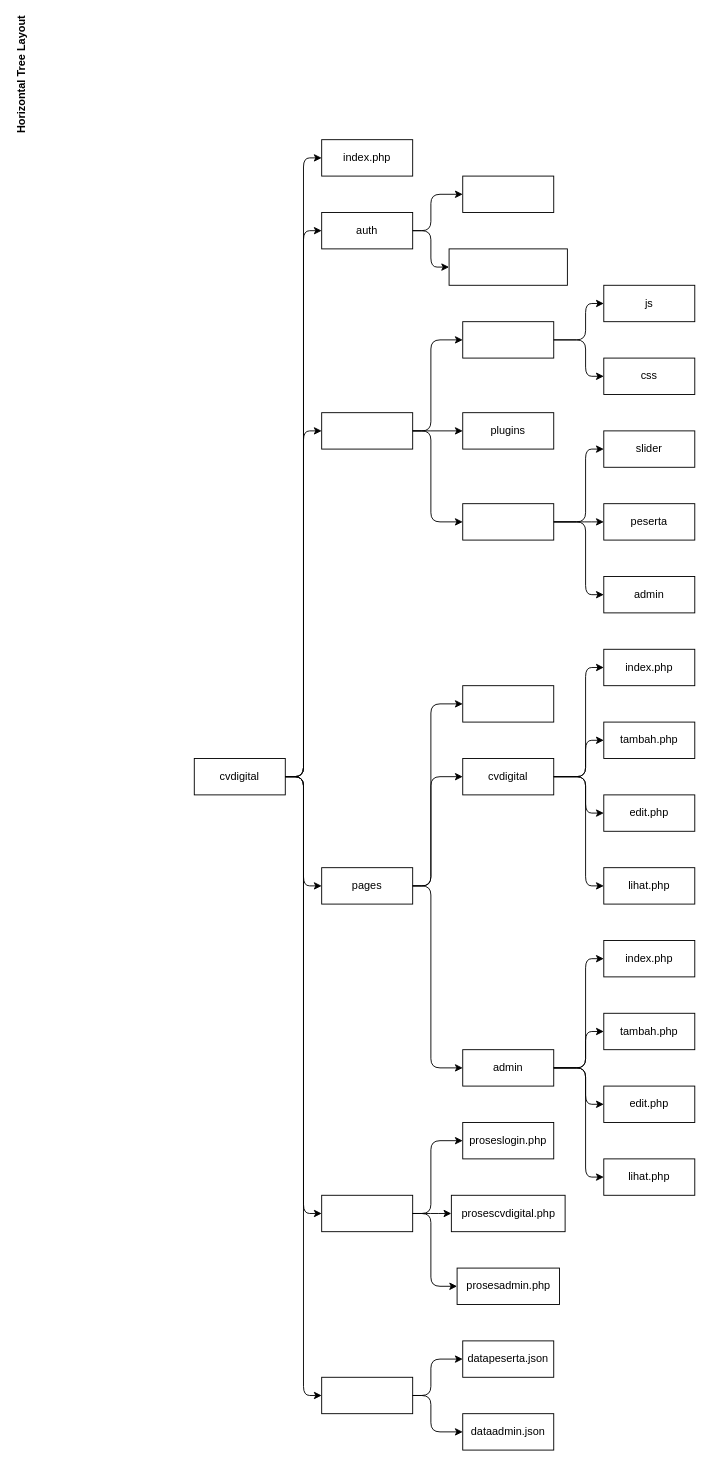
This 711x1466 diagram has some shape labels left out. Each missing label, with the box of its shape:
assests: (321, 412, 413, 449)
dashboard.php: (462, 685, 554, 722)
data: (321, 1376, 413, 1414)
dist: (462, 321, 554, 358)
images: (462, 503, 554, 540)
loginuser.php: (462, 175, 554, 212)
proses: (321, 1194, 413, 1232)
registrasipeserta.php: (448, 248, 567, 285)
